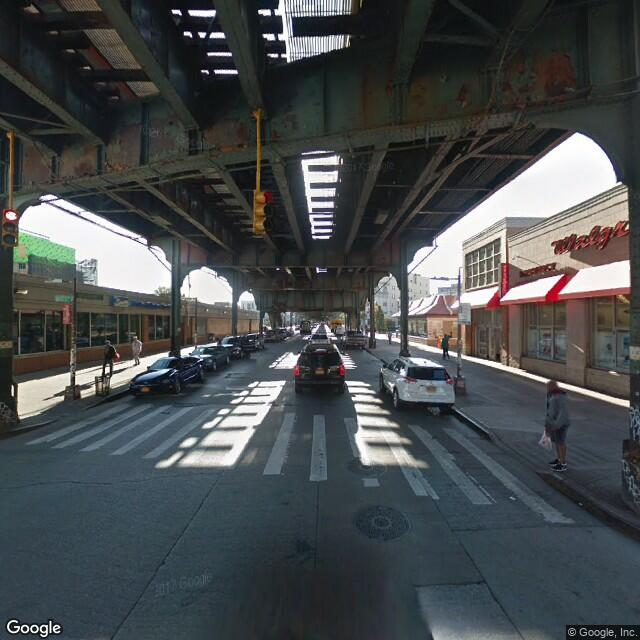litter: (508, 493, 521, 503), (578, 498, 586, 508)
